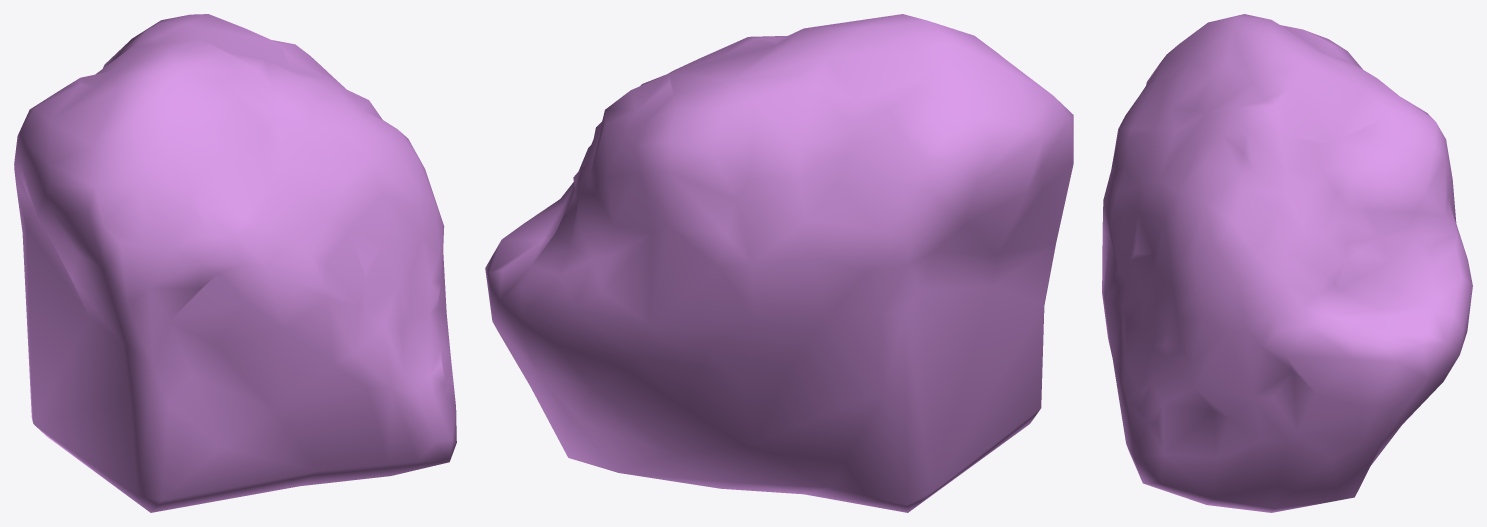
The model's file is Rock.fbx.
The picture shows the model from 3 angles, left to right: view 1: azimuth 30°, elevation 25°; view 2: azimuth 150°, elevation 25°; view 3: azimuth 270°, elevation 25°; orthographic projection. The views are drawn at different scales.
Parts seen in each view (by area): view 1: Rock 01 LP; view 2: Rock 01 LP; view 3: Rock 01 LP.
Boxes of the visible parts, x1,y1,x2,y2 form: Rock 01 LP: (14, 14, 456, 512); Rock 01 LP: (485, 14, 1073, 512); Rock 01 LP: (1102, 14, 1472, 512).
Size of the model in its own units: 823 by 815 by 713.
